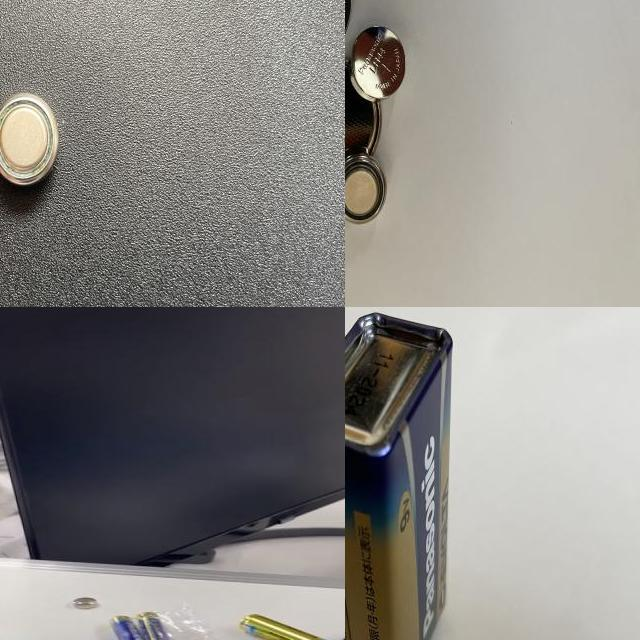9V: (345, 309, 454, 640)
